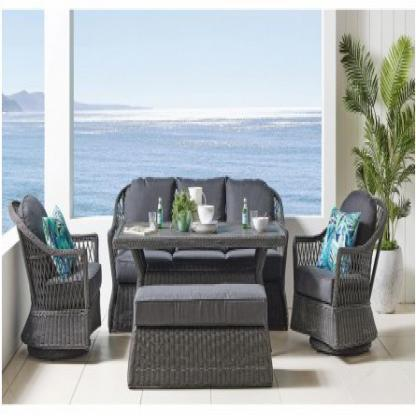table: (112, 211, 288, 360)
